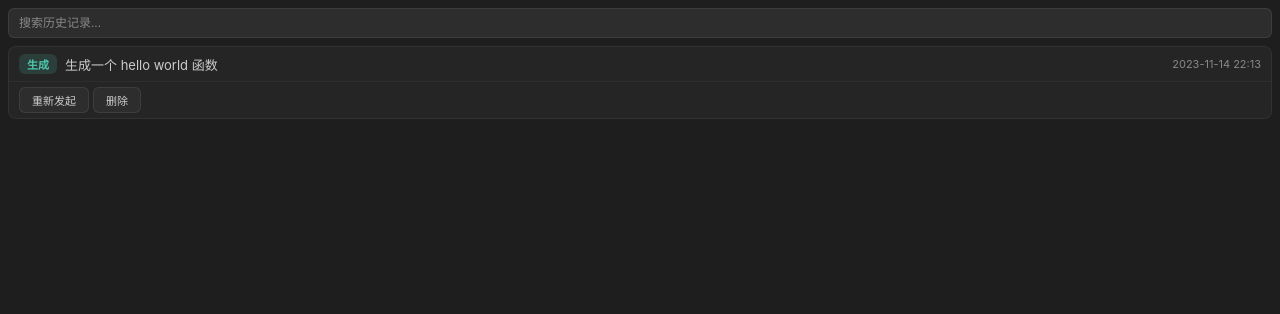
Test case: HistoryPanel › Expand/collapse details › should show code in detail when record has code
Click the button with test id "history-item-summary-rec-code": (38, 64) [19,54,1261,74]
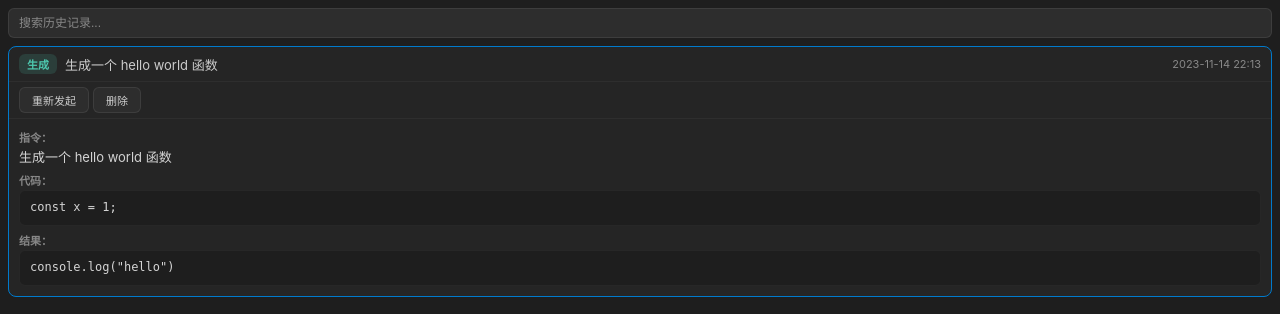
expect the element with test id "history-detail-code-rec-code" reads "const x = 1;": met, box [30,200,117,214]
